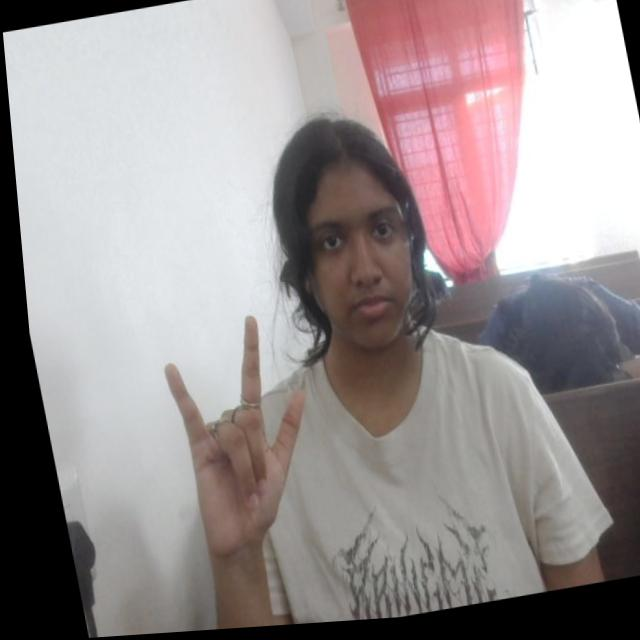iloveyou: (144, 304, 327, 561)
